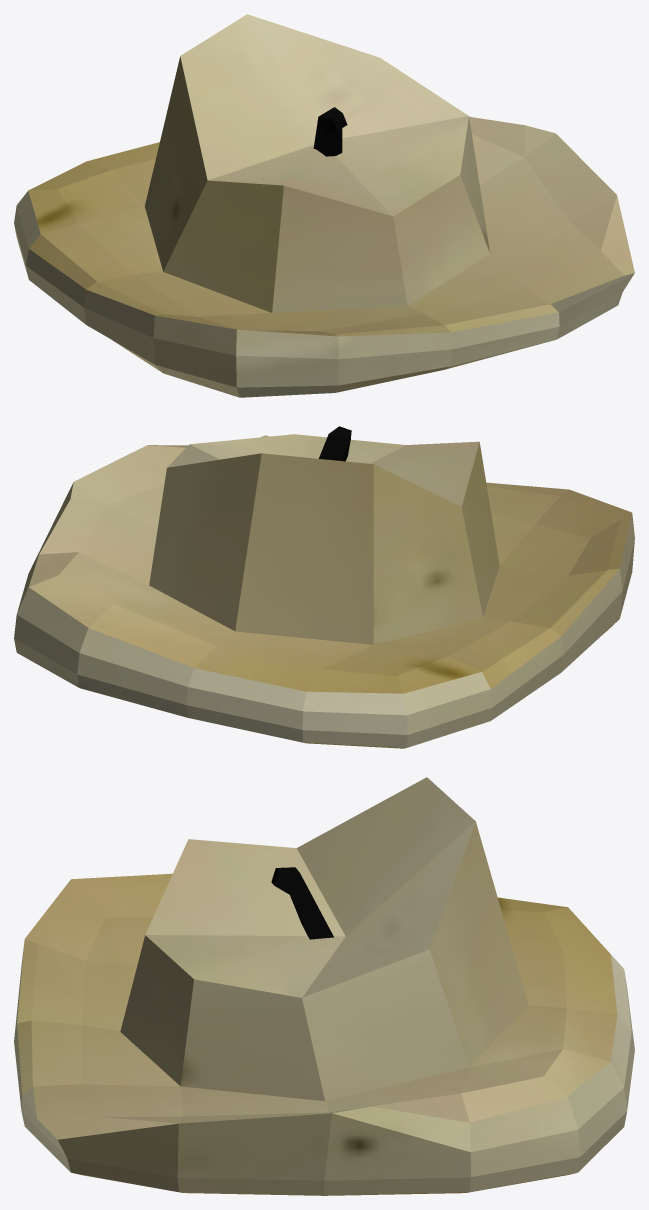
File: WornOutCandle.fbx
3 views of the same model, one above another, from view 1: azimuth 30°, elevation 25°; view 2: azimuth 150°, elevation 25°; view 3: azimuth 270°, elevation 25° (orthographic). The views are drawn at different scales.
Visible parts, largest first — view 1: worn_out_candle; view 2: worn_out_candle; view 3: worn_out_candle.
Boxes of the visible parts, x1=… form: worn_out_candle: x1=14, y1=14, x2=634, y2=397; worn_out_candle: x1=14, y1=426, x2=634, y2=748; worn_out_candle: x1=14, y1=777, x2=634, y2=1195.
Size of the model in its own units: 0.4755 by 0.4673 by 0.2069.
